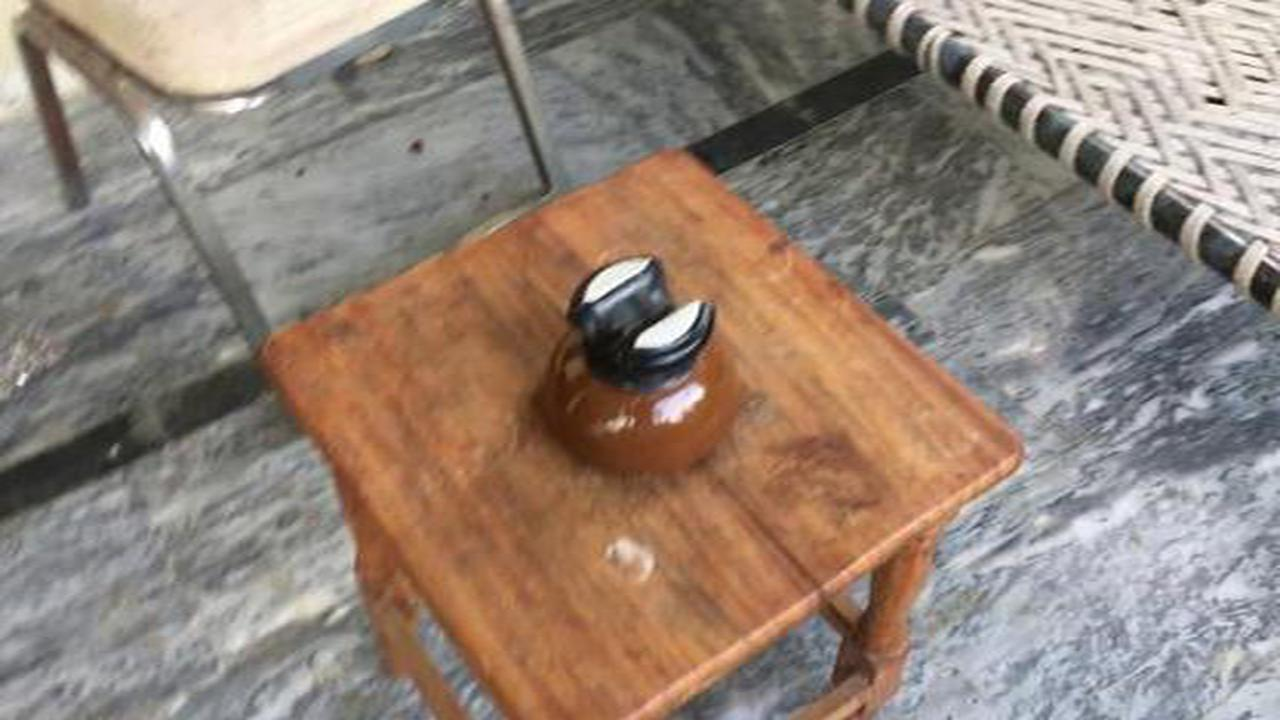insulator_pin: (496, 241, 770, 485)
